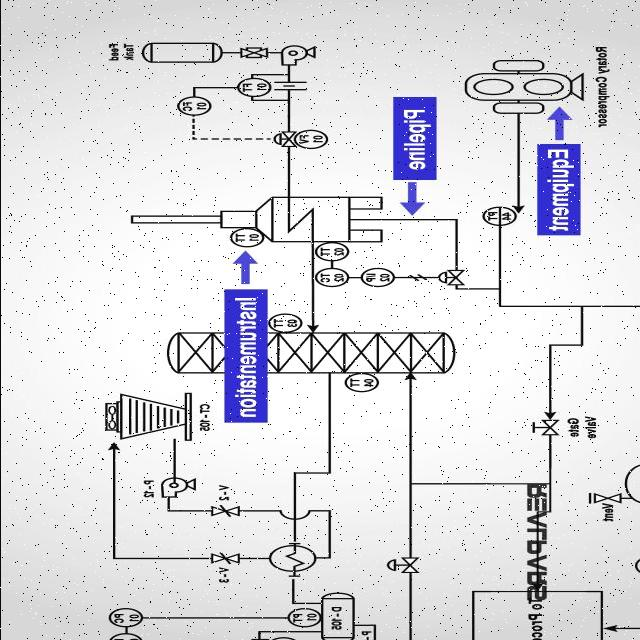Butterfly Valve: (183, 546, 254, 566), (204, 504, 250, 520)
Centrifugal Pump: (157, 472, 198, 500)
Gate Valve: (590, 488, 624, 506)
Hand Operated Gate Valve: (520, 419, 560, 442)
Orifice: (268, 78, 312, 98)
Plug Valve: (234, 42, 274, 61)
Pneumatic-Diaphragm Gate Valve: (424, 261, 466, 288), (382, 551, 420, 575), (270, 130, 296, 150)
